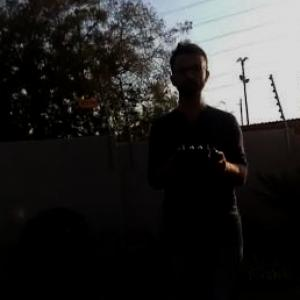follow: (141, 31, 257, 299)
